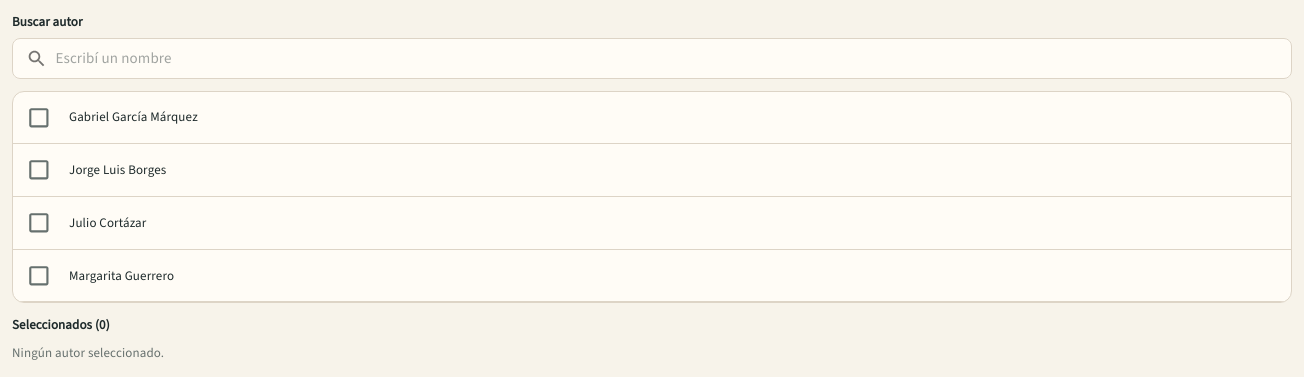
it: AuthorPicker › busca autores ignorando tildes
Expected: the checkbox labelled "Jorge Luis Borges" is shown, top-left (26, 157), bottom-right (52, 183)
Type "cortazar" into the field labelled "Buscar autor" at x=674, y=58, box top-left (55, 38), bottom-right (1292, 79)
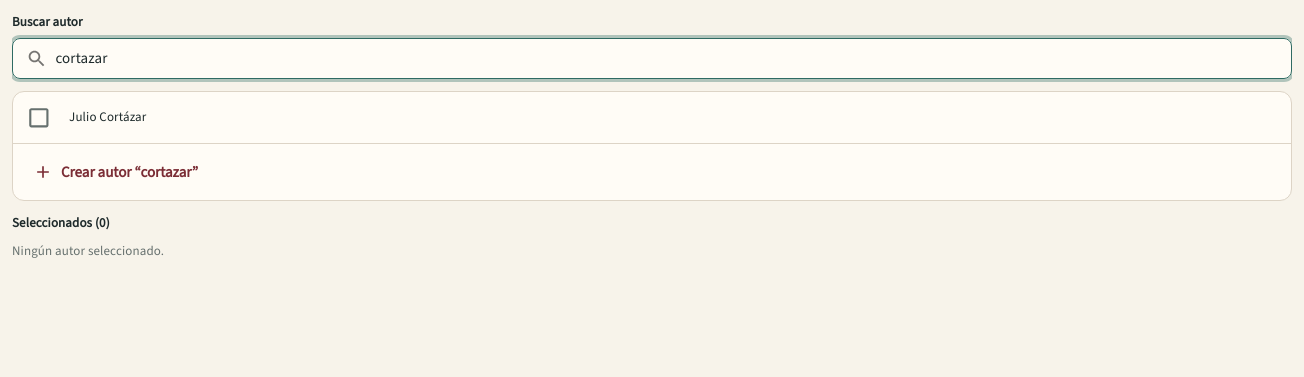
Expected: the checkbox labelled "Julio Cortázar" is shown, top-left (26, 105), bottom-right (52, 130)
Now the button "Crear autor “cortazar”" is shown, box top-left (21, 152), bottom-right (1283, 192)
